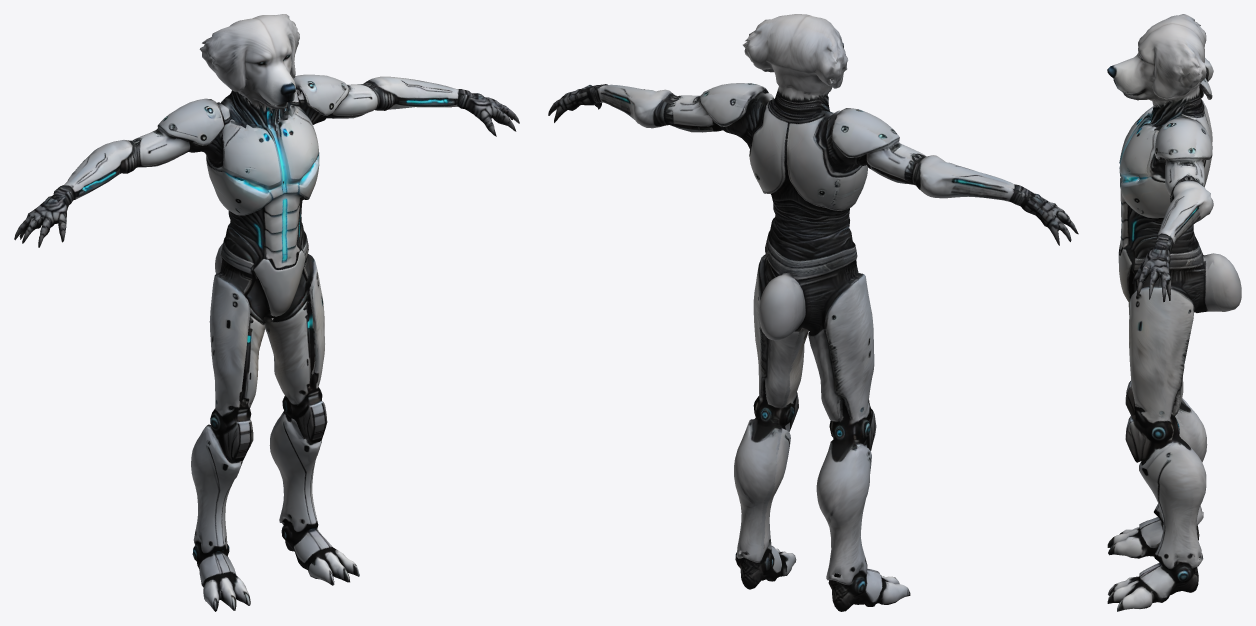
The model's file is 000_dog_orig.glb.
The picture shows the model from 3 angles, left to right: view 1: azimuth 30°, elevation 25°; view 2: azimuth 150°, elevation 25°; view 3: azimuth 270°, elevation 25°; orthographic projection. The views are drawn at different scales.
Visible parts, largest first — view 1: geometry_0.001; view 2: geometry_0.001; view 3: geometry_0.001.
Boxes of the visible parts, x1,y1,x2,y2 form: geometry_0.001: (14,14,519,611); geometry_0.001: (548,14,1078,611); geometry_0.001: (1107,14,1241,611).
Size of the model in its own units: 0.9399 by 1 by 0.2205.
1 material, 1 textured.
